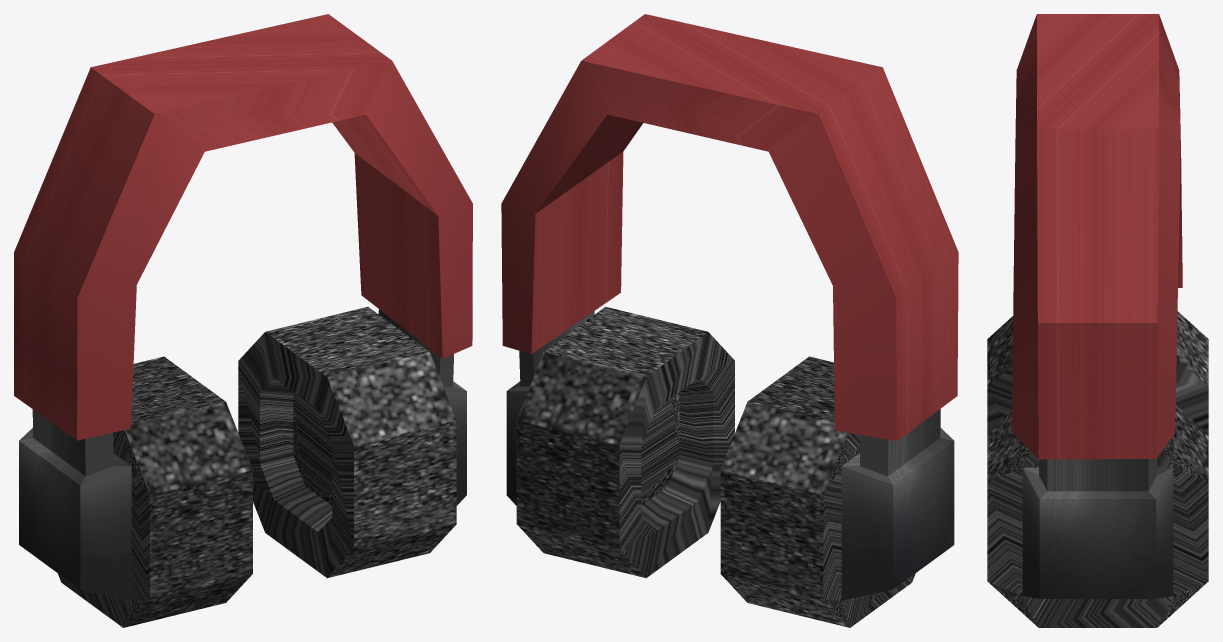
Rendered from headphones.FBX.
3 views of the same model, side by side, from view 1: azimuth 30°, elevation 25°; view 2: azimuth 150°, elevation 25°; view 3: azimuth 270°, elevation 25° (orthographic). The views are drawn at different scales.
Visible parts, largest first — view 1: Object002, Object001, Box001; view 2: Object002, Object001, Box001; view 3: Object002, Object001, Box001.
Part boxes in pixels (box(x1,y1,x2,y2)): Object002: box(14, 14, 472, 440); Object001: box(58, 307, 456, 627); Box001: box(19, 309, 466, 600); Object002: box(501, 14, 958, 441); Object001: box(516, 306, 915, 627); Box001: box(506, 311, 954, 600); Object002: box(1011, 14, 1182, 459); Object001: box(987, 311, 1208, 627); Box001: box(1022, 458, 1173, 598).
Bounding box in the file's own units: 26.06 × 31.87 × 13.17.
Materials: 3 (3 with a texture image).
